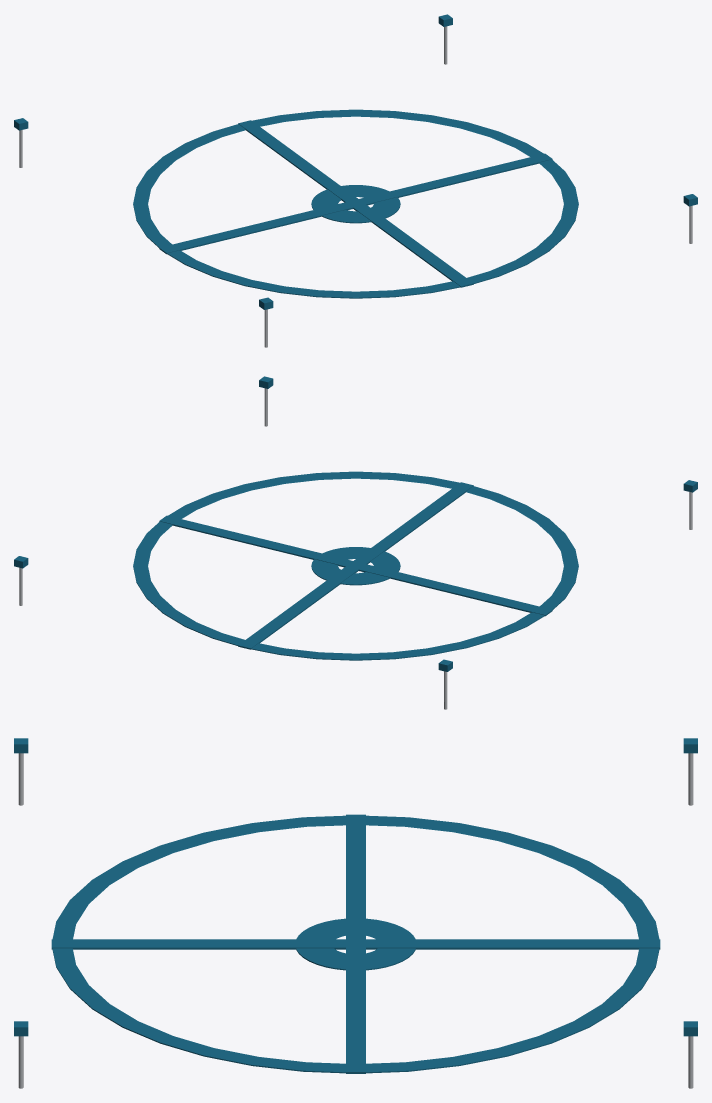
File: world_site_steppe_drop_zone.glb
3 renders of one model, top to bottom at view 1: azimuth 30°, elevation 25°; view 2: azimuth 150°, elevation 25°; view 3: azimuth 270°, elevation 25°, orthographic. The views are drawn at different scales.
Visible parts, largest first — view 1: world_site_steppe_drop_zone_mesh; view 2: world_site_steppe_drop_zone_mesh; view 3: world_site_steppe_drop_zone_mesh.
Part boxes in pixels (bbox=[...]): world_site_steppe_drop_zone_mesh: bbox=[14, 14, 697, 347]; world_site_steppe_drop_zone_mesh: bbox=[14, 376, 697, 709]; world_site_steppe_drop_zone_mesh: bbox=[14, 738, 697, 1088].
Bounding box in the file's own units: 33.7 × 3.45 × 33.7.
